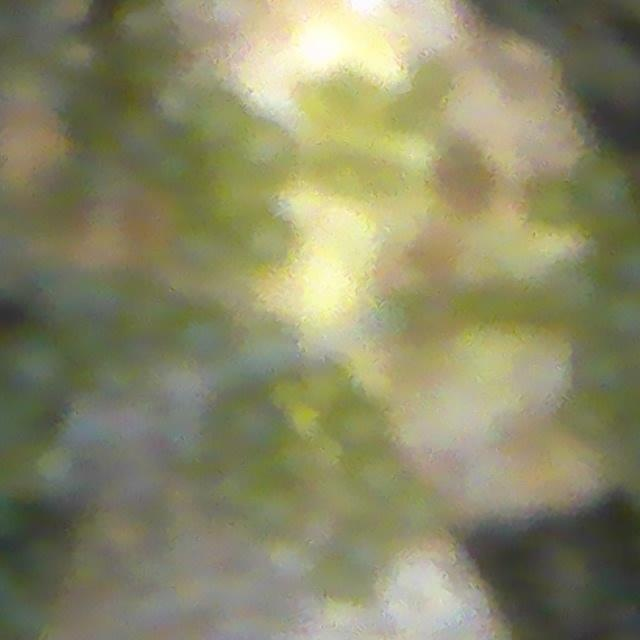SeaGrape: (240, 123, 298, 179), (188, 88, 246, 144), (332, 398, 387, 452), (299, 356, 354, 410), (245, 219, 295, 268), (178, 224, 228, 273)
